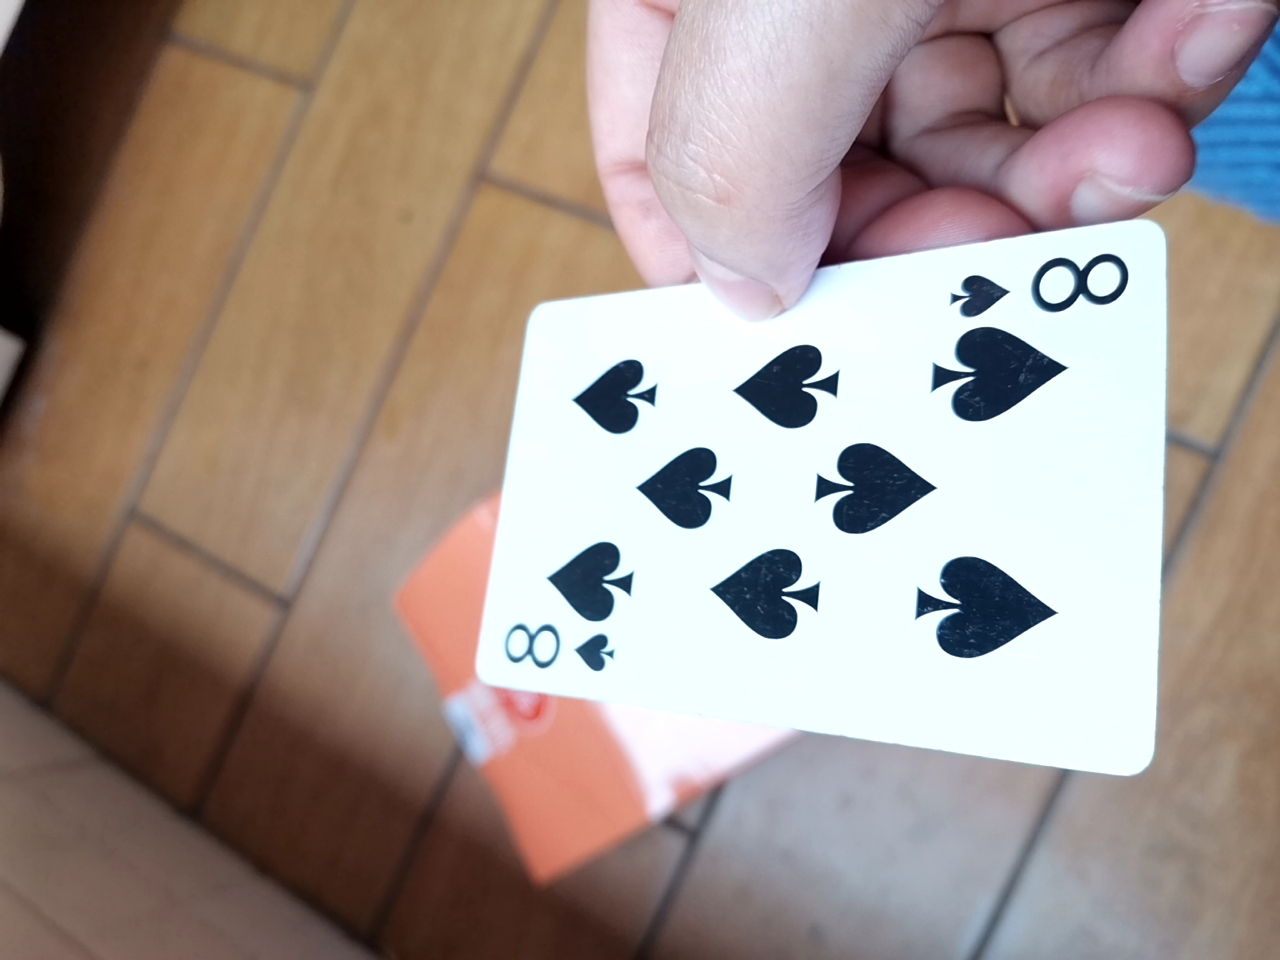ht 8: (457, 233, 1150, 800)
